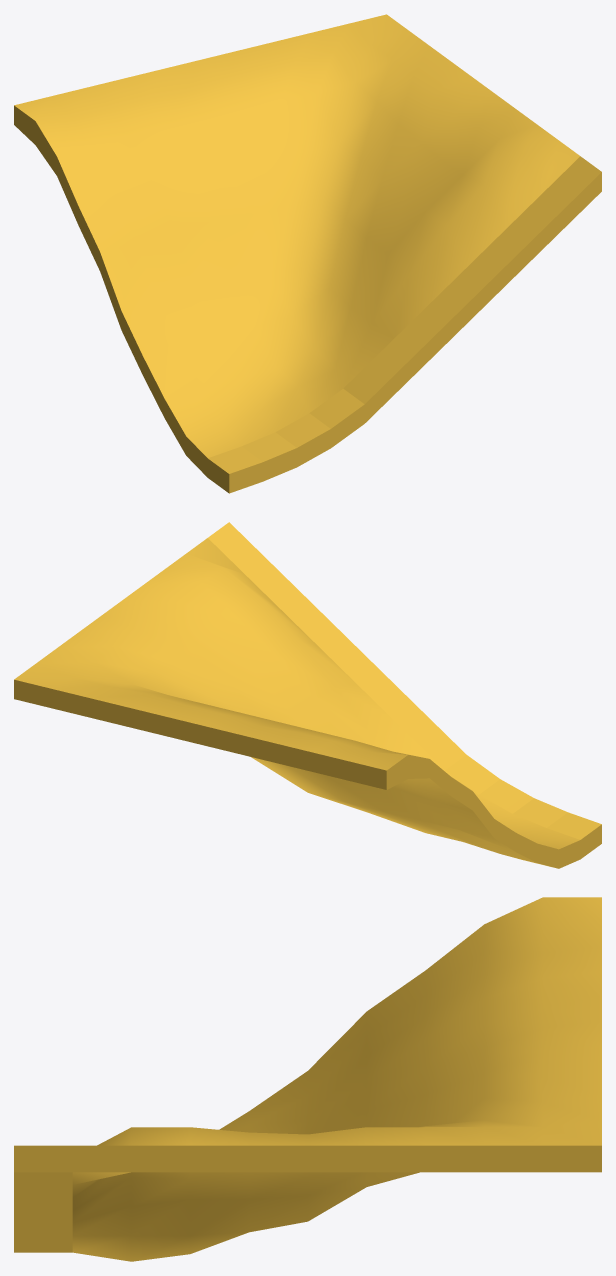
File: Steil - Unten - Ecke Invertiert a - x.fbx
3 renders of one model, top to bottom at view 1: azimuth 30°, elevation 25°; view 2: azimuth 150°, elevation 25°; view 3: azimuth 270°, elevation 25°, orthographic. The views are drawn at different scales.
Visible parts, largest first — view 1: Steil - Unten - Ecke Invertiert a - x; view 2: Steil - Unten - Ecke Invertiert a - x; view 3: Steil - Unten - Ecke Invertiert a - x.
Boxes of the visible parts, x1,y1,x2,y2 form: Steil - Unten - Ecke Invertiert a - x: (14, 14, 601, 493); Steil - Unten - Ecke Invertiert a - x: (14, 522, 601, 868); Steil - Unten - Ecke Invertiert a - x: (14, 897, 601, 1261).
Size of the model in its own units: 394 by 233 by 394.
